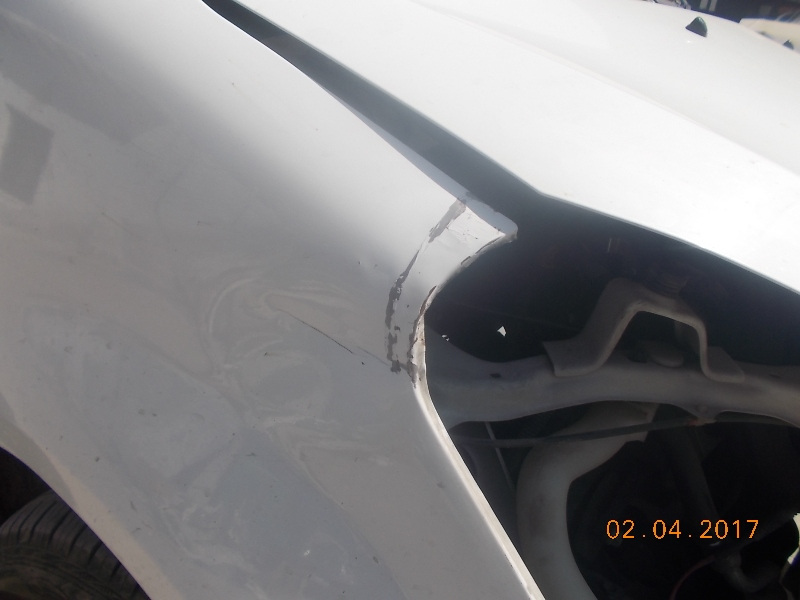Dislocation: (153, 349, 265, 424)
